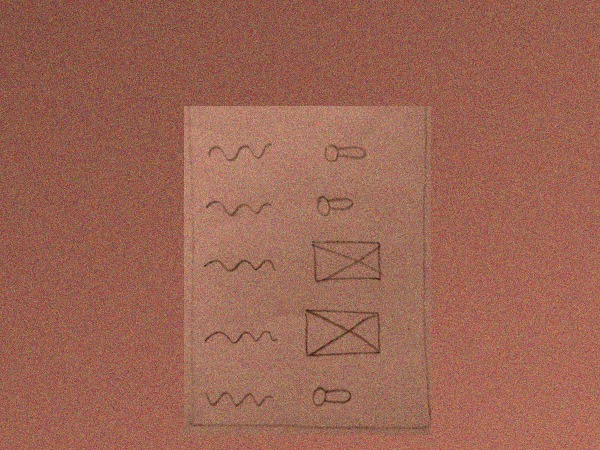image: (301, 306, 382, 359), (308, 235, 385, 287)
switch: (319, 138, 370, 170), (310, 188, 361, 220), (306, 378, 357, 410)
text: (202, 323, 280, 350), (199, 386, 277, 413), (202, 250, 276, 277), (203, 140, 273, 163), (203, 196, 273, 219)
